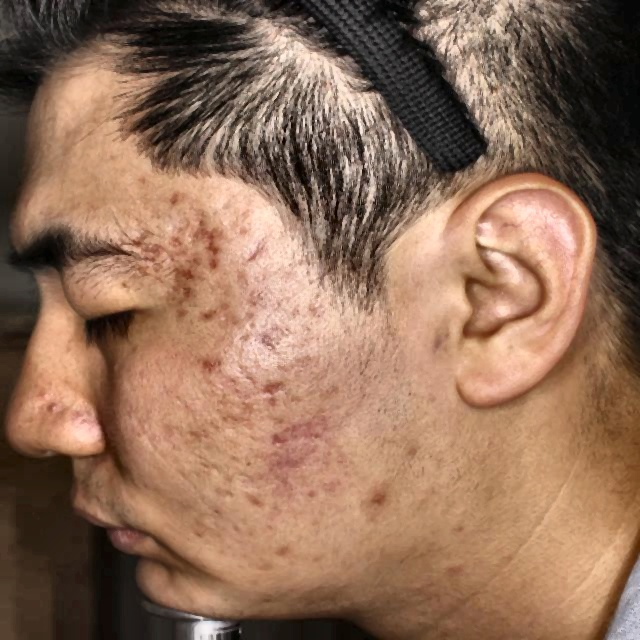pustule: (159, 275, 207, 316), (251, 324, 286, 362), (192, 347, 222, 377), (248, 376, 282, 401), (190, 244, 220, 272), (153, 242, 188, 266), (184, 212, 216, 236), (256, 542, 281, 568), (358, 483, 383, 508), (164, 184, 185, 208)
